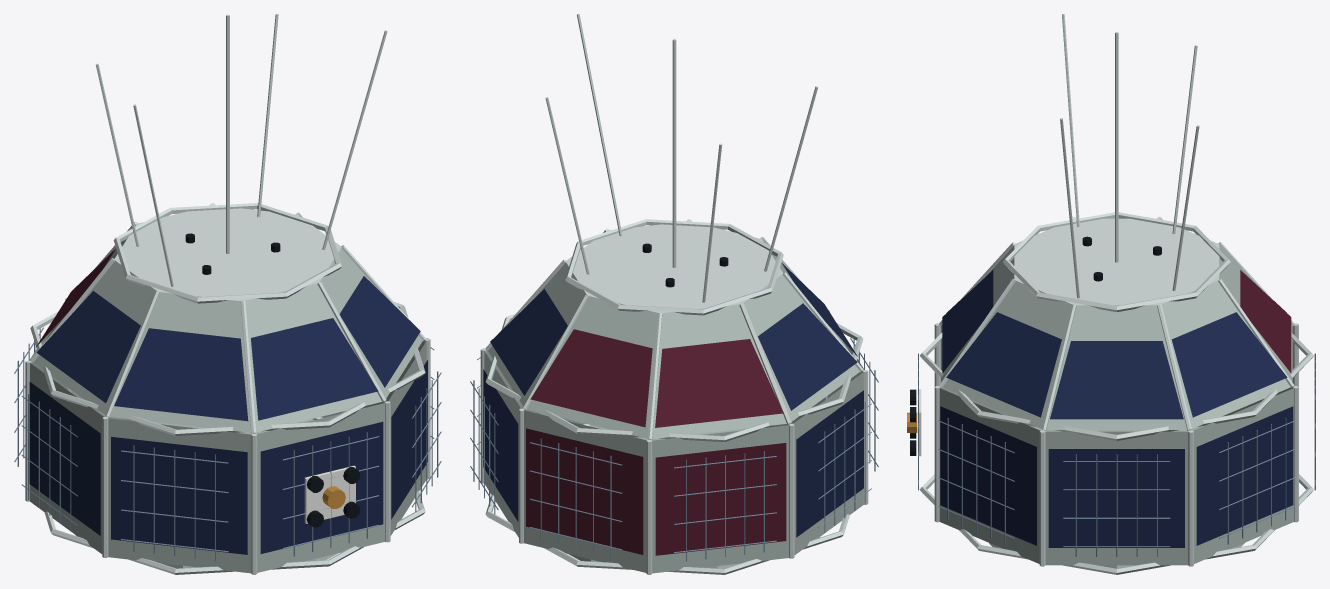
The model's file is ROHINI RS-1.glb.
3 renders of one model, left to right at view 1: azimuth 30°, elevation 25°; view 2: azimuth 150°, elevation 25°; view 3: azimuth 270°, elevation 25°, orthographic. The views are drawn at different scales.
Visible parts, largest first — view 1: ROHINI_RS1_MAIN_OCTAGONAL_BUS, ROHINI_RS1_SHALLOW_SLOPED_ROOF, ROHINI_RS1_TOP_PLATE, ROHINI_LOWER_SOLAR_FACE_04, ROHINI_LOWER_SOLAR_FACE_05, ROHINI_ROOF_SOLAR_FACE_04, ROHINI_ROOF_SOLAR_FACE_05, ROHINI_LOWER_SOLAR_FACE_03, ROHINI_RS1_FINE_SOLAR_CELL_GRID, ROHINI_ROOF_SOLAR_FACE_03, ROHINI_ROOF_SOLAR_FACE_06, ROHINI_RS1_THIN_VERTICAL_FRAME (+10 smaller); view 2: ROHINI_RS1_SHALLOW_SLOPED_ROOF, ROHINI_RS1_MAIN_OCTAGONAL_BUS, ROHINI_RS1_TOP_PLATE, ROHINI_LOWER_SOLAR_FACE_02, ROHINI_LOWER_SOLAR_FACE_01, ROHINI_ROOF_SOLAR_FACE_02, ROHINI_ROOF_SOLAR_FACE_01, ROHINI_LOWER_SOLAR_FACE_03, ROHINI_RS1_FINE_SOLAR_CELL_GRID, ROHINI_ROOF_SOLAR_FACE_03, ROHINI_ROOF_SOLAR_FACE_00, ROHINI_RS1_THIN_VERTICAL_FRAME (+8 smaller); view 3: ROHINI_RS1_SHALLOW_SLOPED_ROOF, ROHINI_RS1_TOP_PLATE, ROHINI_LOWER_SOLAR_FACE_07, ROHINI_RS1_MAIN_OCTAGONAL_BUS, ROHINI_LOWER_SOLAR_FACE_00, ROHINI_LOWER_SOLAR_FACE_06, ROHINI_ROOF_SOLAR_FACE_07, ROHINI_ROOF_SOLAR_FACE_00, ROHINI_ROOF_SOLAR_FACE_06, ROHINI_RS1_FINE_SOLAR_CELL_GRID, ROHINI_RS1_THIN_VERTICAL_FRAME, ROHINI_RS1_ROOF_FRAME (+7 smaller).
Part boxes in pixels (left/top/right/bottom): ROHINI_RS1_MAIN_OCTAGONAL_BUS: left=29, top=330, right=426, bottom=573; ROHINI_RS1_SHALLOW_SLOPED_ROOF: left=33, top=238, right=422, bottom=432; ROHINI_RS1_TOP_PLATE: left=114, top=205, right=341, bottom=301; ROHINI_LOWER_SOLAR_FACE_04: left=111, top=437, right=247, bottom=554; ROHINI_LOWER_SOLAR_FACE_05: left=260, top=421, right=383, bottom=553; ROHINI_ROOF_SOLAR_FACE_04: left=114, top=328, right=248, bottom=421; ROHINI_ROOF_SOLAR_FACE_05: left=251, top=318, right=378, bottom=420; ROHINI_LOWER_SOLAR_FACE_03: left=29, top=382, right=100, bottom=535; ROHINI_RS1_FINE_SOLAR_CELL_GRID: left=14, top=327, right=441, bottom=560; ROHINI_ROOF_SOLAR_FACE_03: left=36, top=291, right=140, bottom=402; ROHINI_ROOF_SOLAR_FACE_06: left=339, top=276, right=420, bottom=387; ROHINI_RS1_THIN_VERTICAL_FRAME: left=25, top=298, right=430, bottom=574; ROHINI_RS1_SHALLOW_SLOPED_ROOF: left=488, top=241, right=859, bottom=438; ROHINI_RS1_MAIN_OCTAGONAL_BUS: left=484, top=340, right=864, bottom=573; ROHINI_RS1_TOP_PLATE: left=565, top=221, right=783, bottom=312; ROHINI_LOWER_SOLAR_FACE_02: left=655, top=443, right=786, bottom=555; ROHINI_LOWER_SOLAR_FACE_01: left=526, top=428, right=643, bottom=554; ROHINI_ROOF_SOLAR_FACE_02: left=655, top=339, right=783, bottom=427; ROHINI_ROOF_SOLAR_FACE_01: left=530, top=329, right=652, bottom=427; ROHINI_LOWER_SOLAR_FACE_03: left=796, top=390, right=863, bottom=537; ROHINI_RS1_FINE_SOLAR_CELL_GRID: left=470, top=338, right=878, bottom=561; ROHINI_ROOF_SOLAR_FACE_03: left=758, top=303, right=857, bottom=410; ROHINI_ROOF_SOLAR_FACE_00: left=490, top=289, right=567, bottom=395; ROHINI_RS1_THIN_VERTICAL_FRAME: left=480, top=310, right=868, bottom=574; ROHINI_RS1_SHALLOW_SLOPED_ROOF: left=941, top=245, right=1292, bottom=429; ROHINI_RS1_TOP_PLATE: left=1014, top=218, right=1219, bottom=305; ROHINI_LOWER_SOLAR_FACE_07: left=1048, top=449, right=1184, bottom=547; ROHINI_RS1_MAIN_OCTAGONAL_BUS: left=939, top=326, right=1293, bottom=565; ROHINI_LOWER_SOLAR_FACE_00: left=1196, top=406, right=1293, bottom=545; ROHINI_LOWER_SOLAR_FACE_06: left=940, top=406, right=1036, bottom=545; ROHINI_ROOF_SOLAR_FACE_07: left=1050, top=341, right=1183, bottom=419; ROHINI_ROOF_SOLAR_FACE_00: left=1171, top=312, right=1287, bottom=417; ROHINI_ROOF_SOLAR_FACE_06: left=946, top=312, right=1061, bottom=417; ROHINI_RS1_FINE_SOLAR_CELL_GRID: left=918, top=353, right=1315, bottom=556; ROHINI_RS1_THIN_VERTICAL_FRAME: left=934, top=323, right=1298, bottom=566; ROHINI_RS1_ROOF_FRAME: left=939, top=216, right=1294, bottom=430.
Size of the model in its own units: 2.16 by 2.88 by 2.21.
